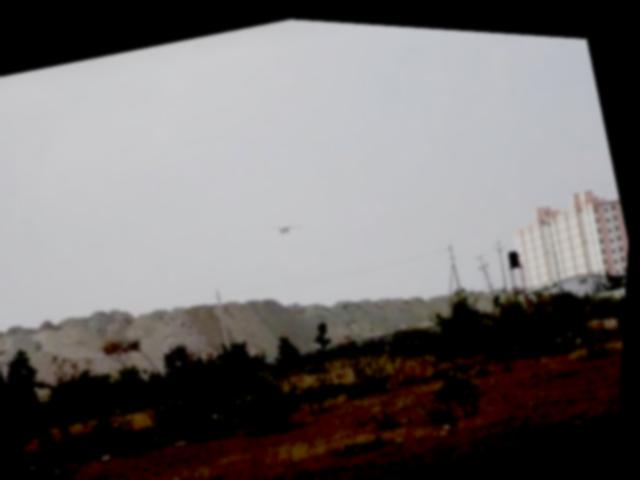iha: (273, 213, 307, 233)
